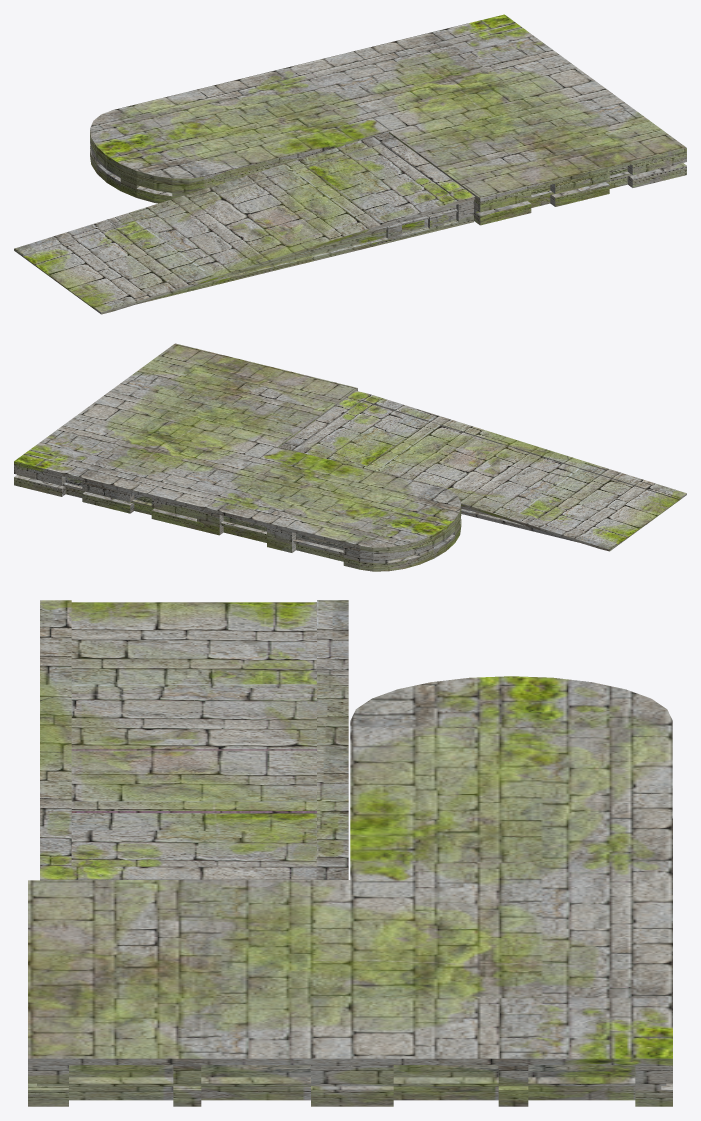
3 renders of one model, top to bottom at view 1: azimuth 30°, elevation 25°; view 2: azimuth 150°, elevation 25°; view 3: azimuth 270°, elevation 25°, orthographic. The views are drawn at different scales.
Bounding box in the file's own units: 37.47 × 1.67 × 20.32.
2 materials, 2 textured.
